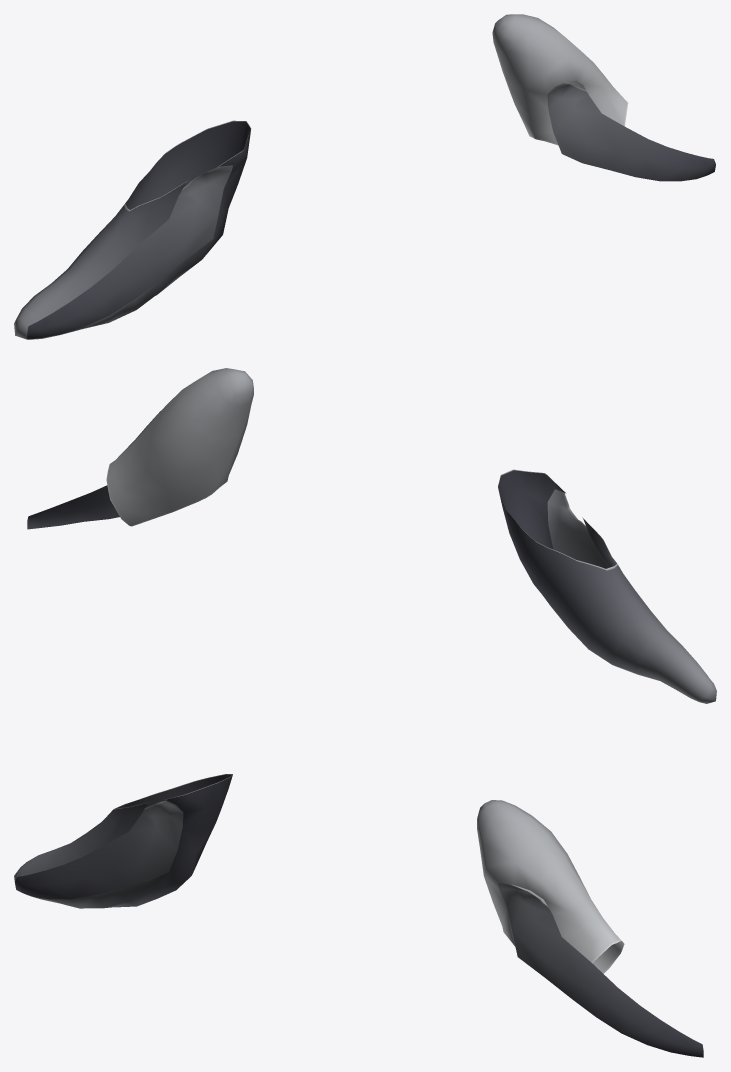
Rendered from ears1.fbx.
3 views of the same model, one above another, from view 1: azimuth 30°, elevation 25°; view 2: azimuth 150°, elevation 25°; view 3: azimuth 330°, elevation 25° (orthographic).
Visible parts, largest first — view 1: ear1_right1; view 2: ear1_right1; view 3: ear1_right1.
Boxes of the visible parts, <box> form: ear1_right1: <box>14,14,715,339</box>; ear1_right1: <box>27,368,716,703</box>; ear1_right1: <box>14,774,703,1057</box>.
Bounding box in the file's own units: 3.75 × 1.07 × 0.4092.
